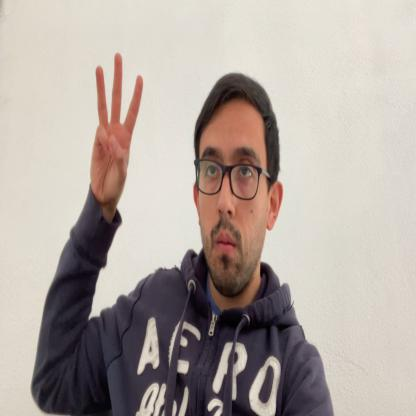W: (90, 53, 144, 207)
